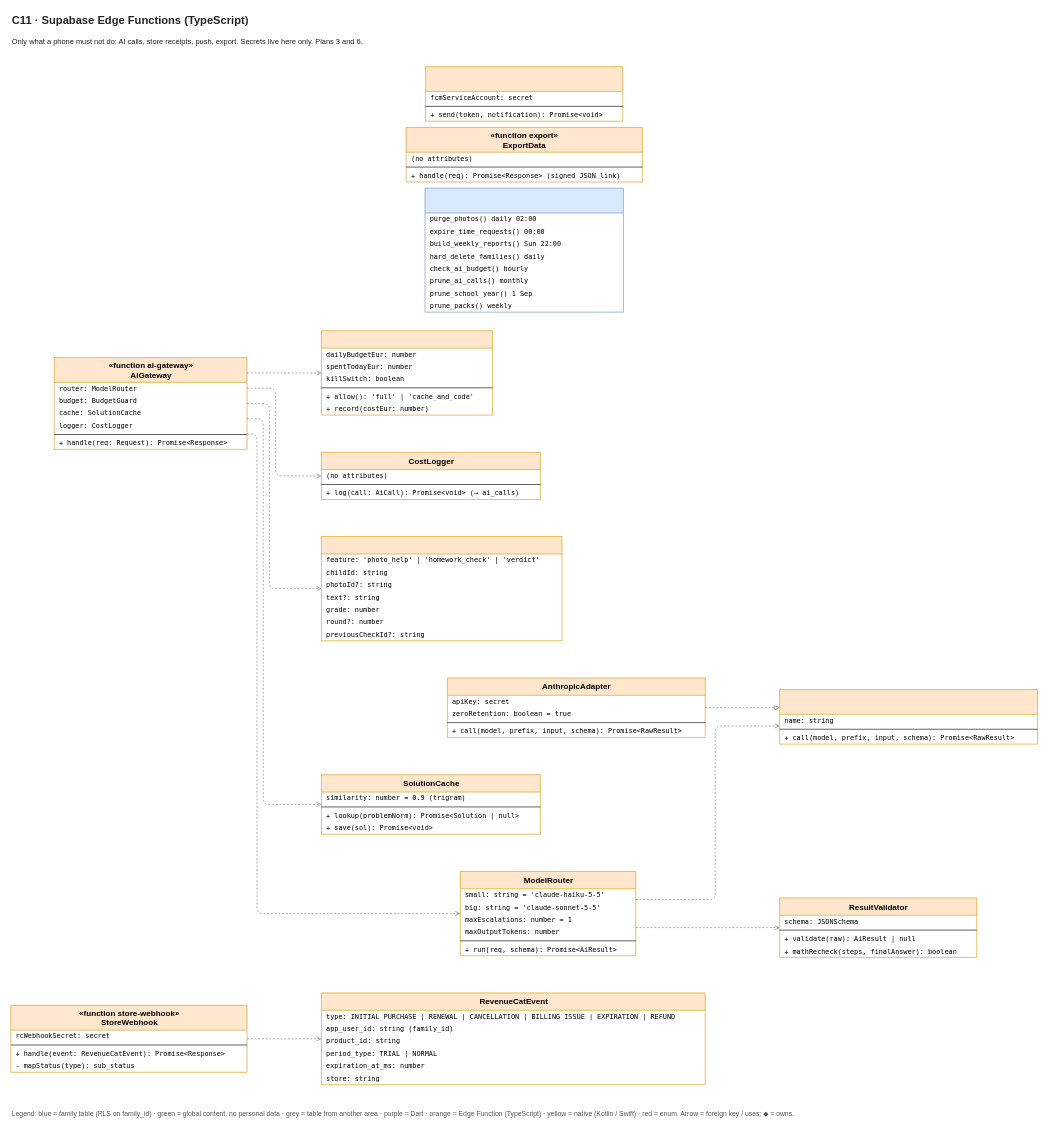
The diagram is 1048 pixels wide and 1135 high, and some of its shapes have lost their labels. The shapes that lost their labels are listed below. From the top down, each one's box as (x1, y1, x2, y2) in pixels, then its label:
(425, 66, 623, 121): «function push» PushSender
(424, 188, 623, 312): «sql» ScheduledJobs (pg_cron SQL)
(321, 330, 493, 415): BudgetGuard
(321, 536, 562, 641): AiRequest
(779, 689, 1038, 744): «interface» ProviderAdapter
